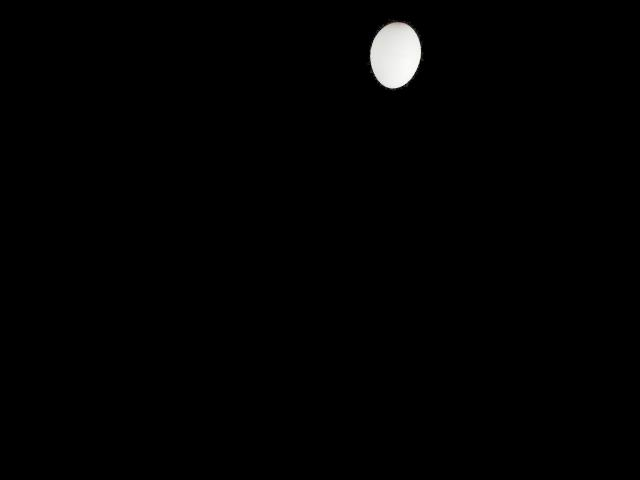egg: (366, 18, 425, 91)
